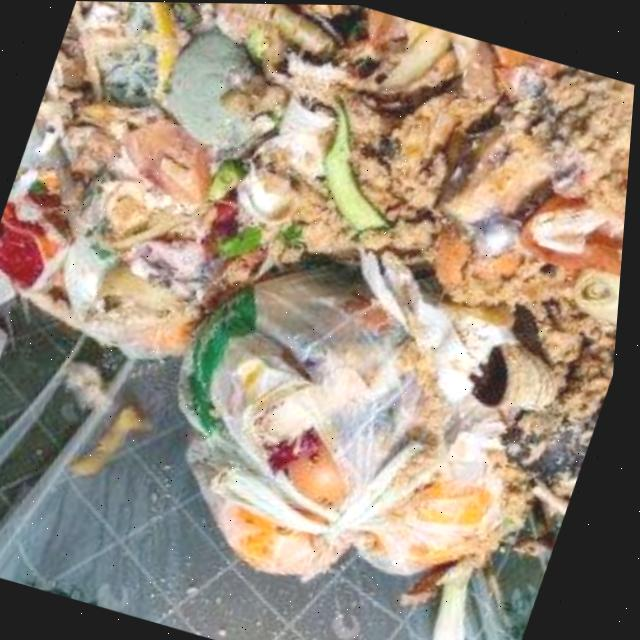Garbage: (10, 1, 636, 462), (183, 264, 512, 577)
